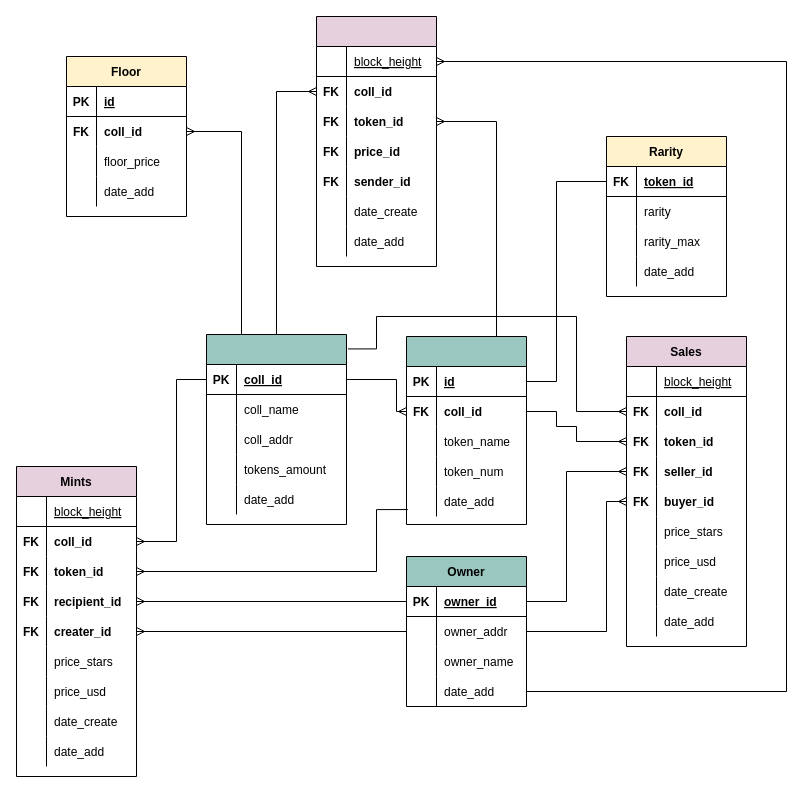
Some shapes in this 803 by 793 pixel diagram are drawn without their labels. Each missing label, with the box of its shape:
Burns: (316, 16, 436, 266)
Collections: (206, 334, 346, 524)
Tokens: (406, 336, 526, 524)
